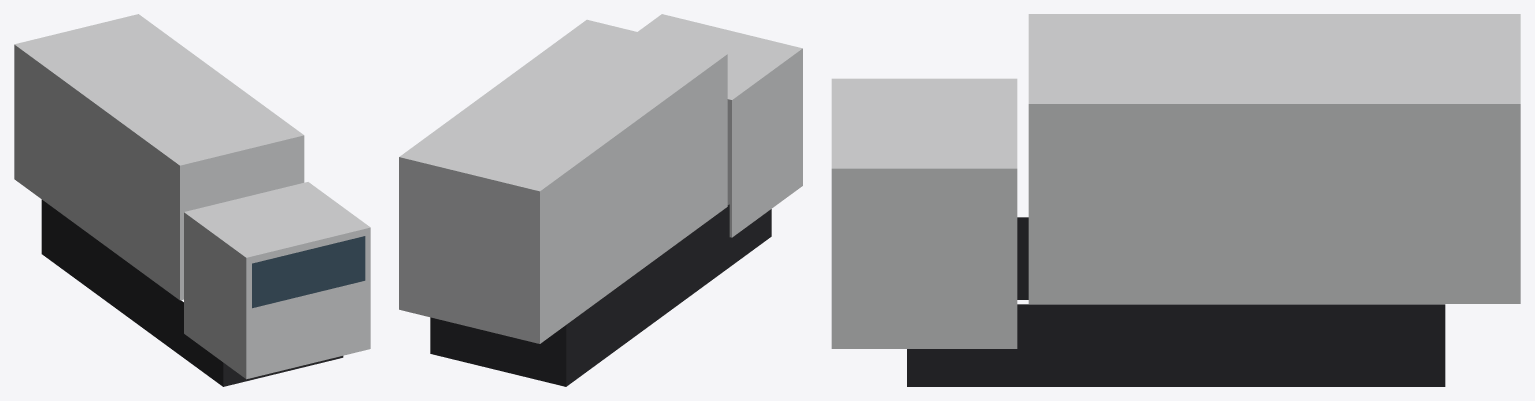
File: 0_far.fbx
The picture shows the model from 3 angles, left to right: view 1: azimuth 30°, elevation 25°; view 2: azimuth 150°, elevation 25°; view 3: azimuth 270°, elevation 25°; orthographic projection. The views are drawn at different scales.
Parts seen in each view (by area): view 1: 11_0_far; view 2: 11_0_far; view 3: 11_0_far.
Part boxes in pixels (x1,y1,x2,y2): 11_0_far: (14, 14, 370, 386); 11_0_far: (399, 14, 802, 386); 11_0_far: (831, 14, 1520, 386).
Size of the model in its own units: 2.24 by 3.3 by 7.24.
